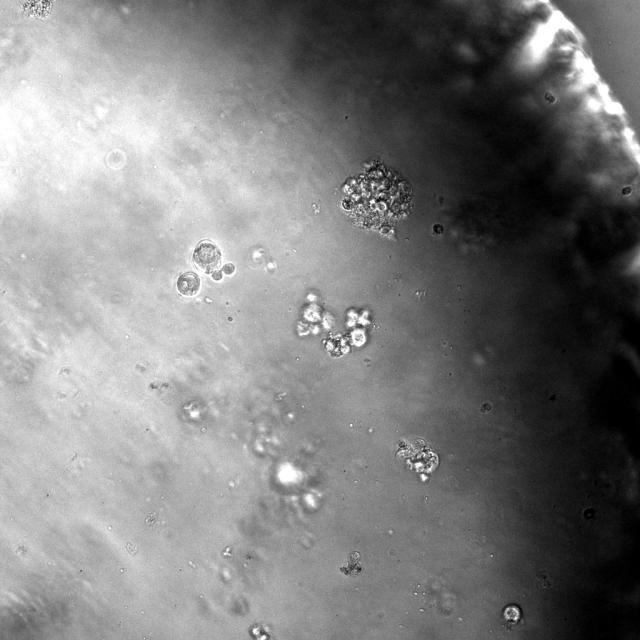organoid: (340, 158, 412, 236), (322, 307, 372, 357), (394, 438, 439, 482), (296, 290, 334, 337), (193, 239, 234, 279), (176, 271, 201, 297), (21, 0, 55, 19), (339, 550, 362, 576), (501, 603, 522, 629), (248, 622, 272, 639), (432, 223, 444, 235), (480, 401, 491, 413), (545, 91, 556, 103), (621, 184, 632, 196)
